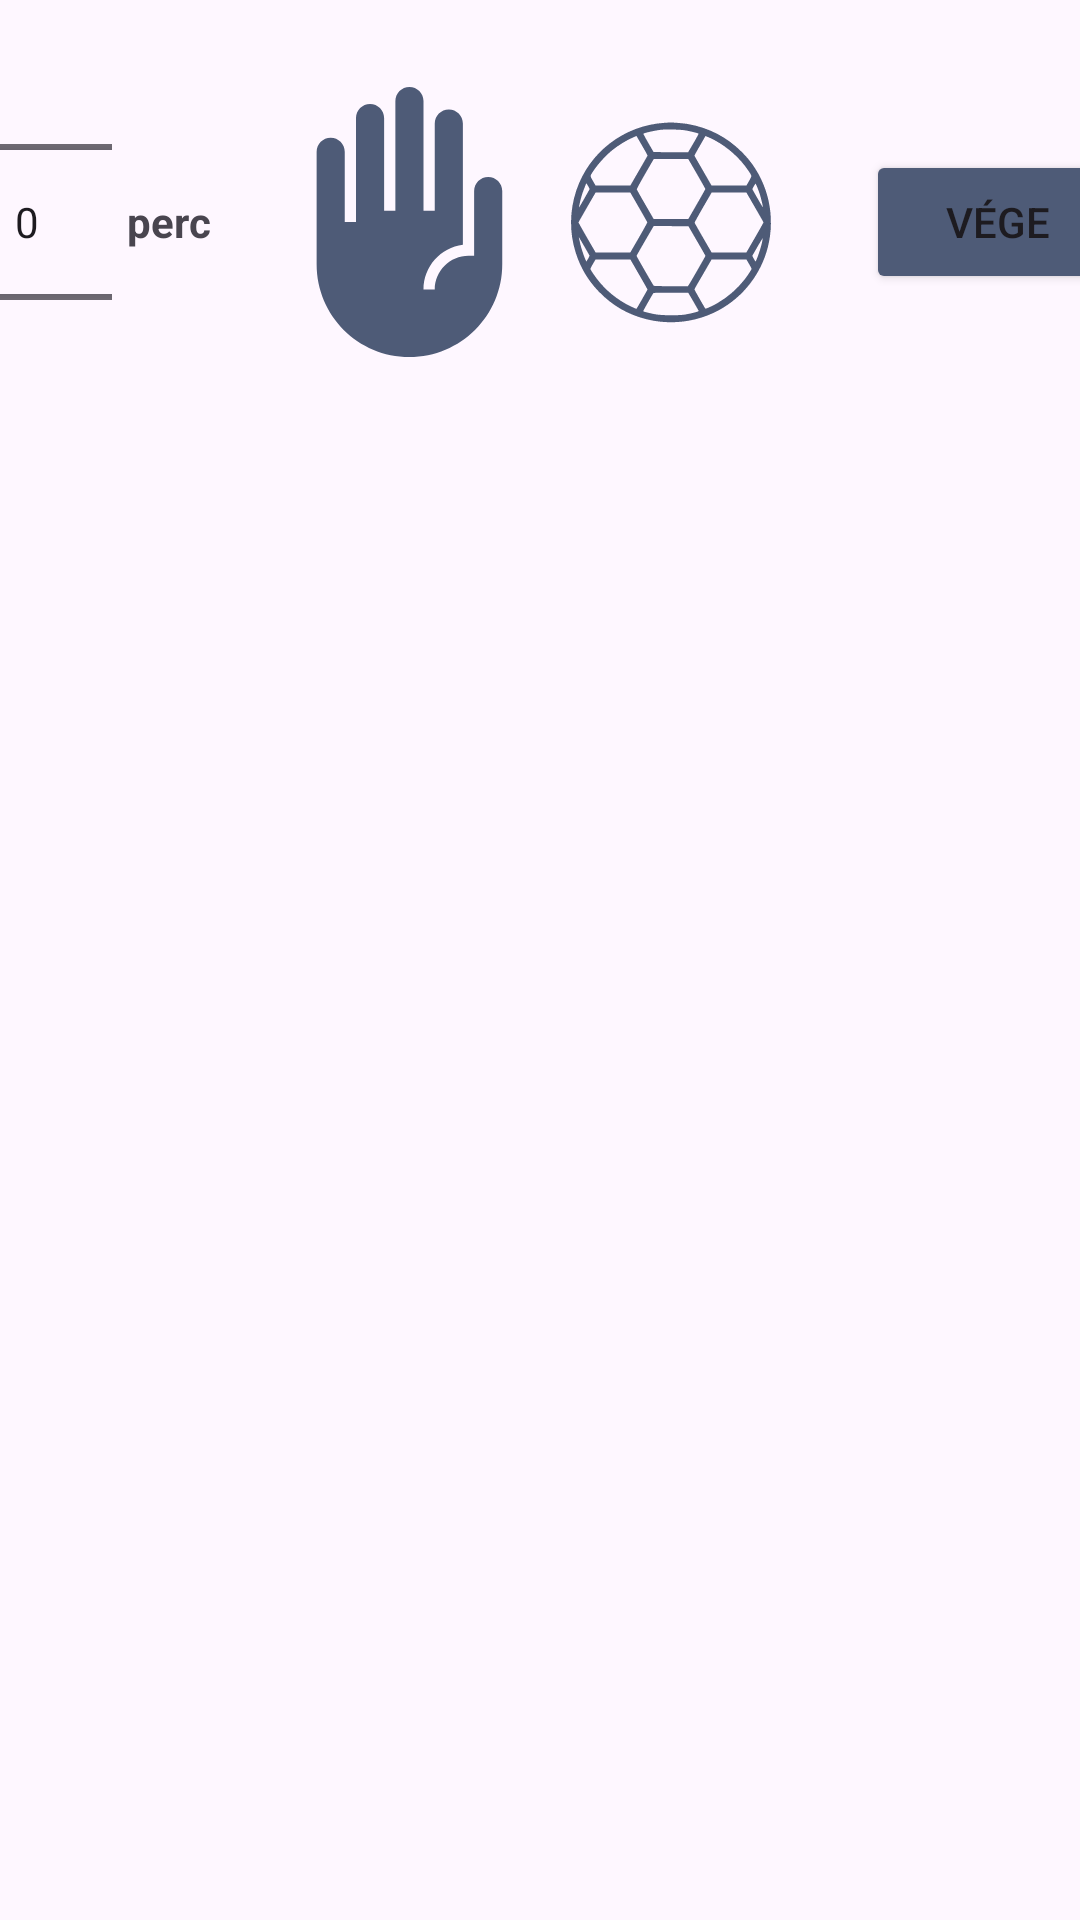

Screen size 1080x1920. Icon name, then its box in pixels as {"x1": x1, "y1": y1, "x2": x2, "y2": y2}:
Gól: {"x1": 571, "y1": 122, "x2": 771, "y2": 323}
Védés: {"x1": 316, "y1": 87, "x2": 503, "y2": 357}
